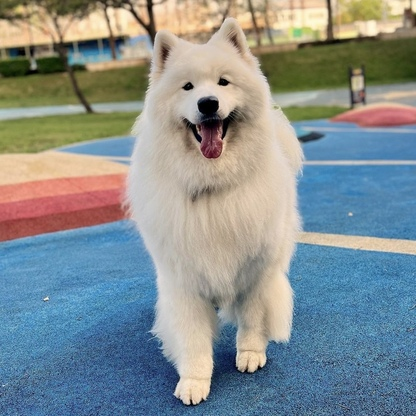samoyed: (124, 14, 306, 408)
